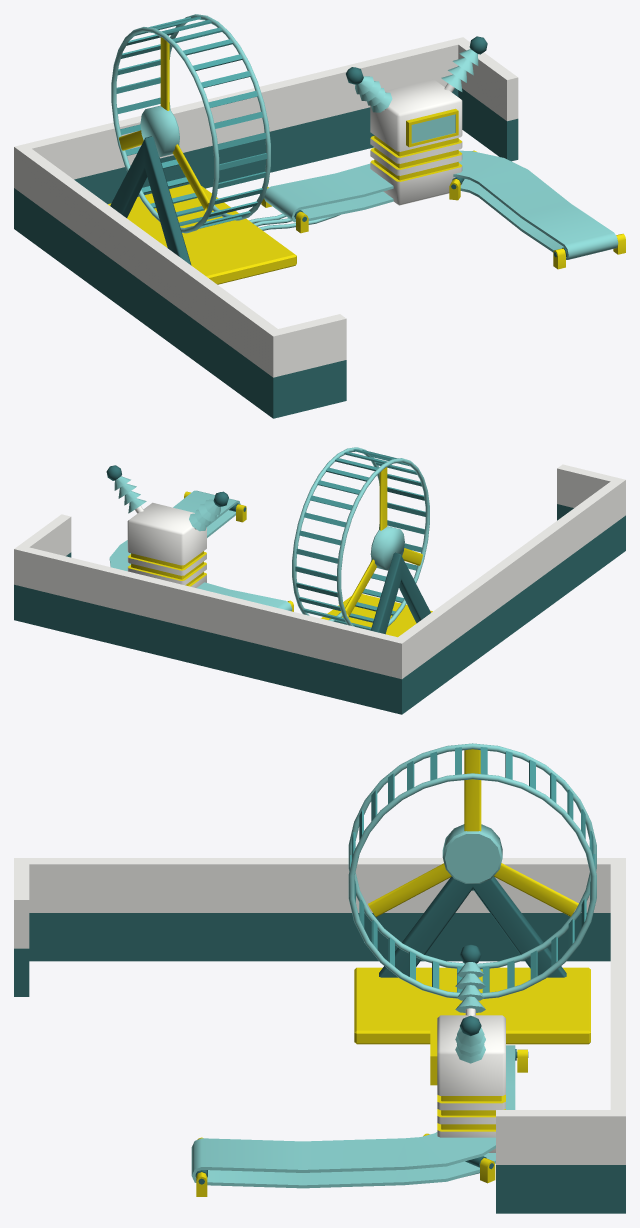
Rendered from Dynamomachine.fbx.
The picture shows the model from 3 angles, top to bottom: view 1: azimuth 30°, elevation 25°; view 2: azimuth 150°, elevation 25°; view 3: azimuth 270°, elevation 25°; orthographic projection. The views are drawn at different scales.
Visible parts, largest first — view 1: Cube.002, Conveur.001, Electro, Wheel_Mesh, Plane.004, Balka, Center, Wire_1; view 2: Cube.002, Wheel_Mesh, Electro, Conveur.001, Center, Balka, Plane.004; view 3: Cube.002, Conveur.001, Plane.004, Wheel_Mesh, Electro, Center, Balka.
Part boxes in pixels (x1=…): Cube.002: x1=14, y1=37, x2=518, y2=418; Conveur.001: x1=261, y1=150, x2=625, y2=269; Electro: x1=346, y1=36, x2=487, y2=205; Wheel_Mesh: x1=111, y1=14, x2=270, y2=233; Plane.004: x1=108, y1=184, x2=296, y2=284; Balka: x1=110, y1=136, x2=191, y2=265; Center: x1=119, y1=37, x2=209, y2=211; Wire_1: x1=249, y1=214, x2=340, y2=230; Cube.002: x1=14, y1=464, x2=625, y2=714; Wheel_Mesh: x1=292, y1=447, x2=429, y2=630; Electro: x1=106, y1=465, x2=228, y2=587; Conveur.001: x1=109, y1=490, x2=293, y2=611; Center: x1=345, y1=467, x2=422, y2=617; Balka: x1=371, y1=552, x2=430, y2=634; Plane.004: x1=321, y1=594, x2=432, y2=637; Cube.002: x1=14, y1=858, x2=625, y2=1213; Conveur.001: x1=191, y1=1045, x2=528, y2=1196; Plane.004: x1=354, y1=967, x2=590, y2=1044; Wheel_Mesh: x1=348, y1=743, x2=596, y2=998; Electro: x1=430, y1=944, x2=505, y2=1152; Center: x1=368, y1=749, x2=578, y2=916; Balka: x1=379, y1=876, x2=566, y2=977.
Bounding box in the file's own units: 8 × 3.77 × 8.
